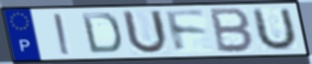B: (209, 7, 256, 54)
D: (79, 11, 124, 55)
F: (162, 10, 210, 55)
I: (51, 12, 73, 56)
U: (120, 9, 171, 57), (251, 6, 299, 53)
